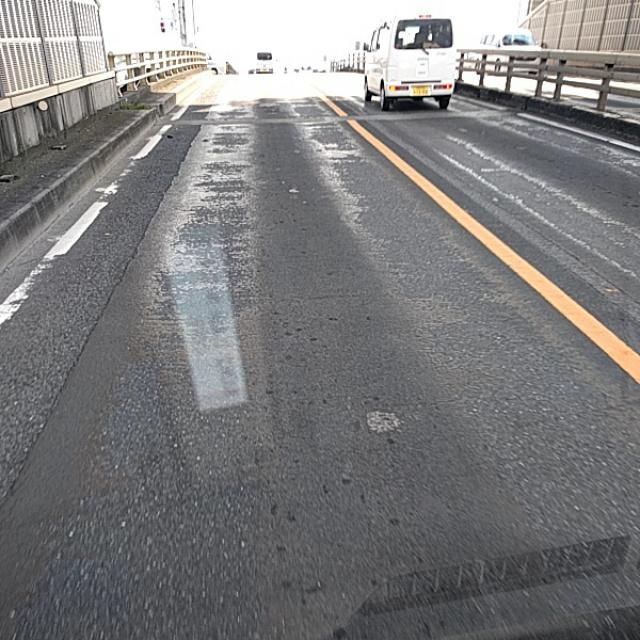pothole: (159, 375, 310, 514)
